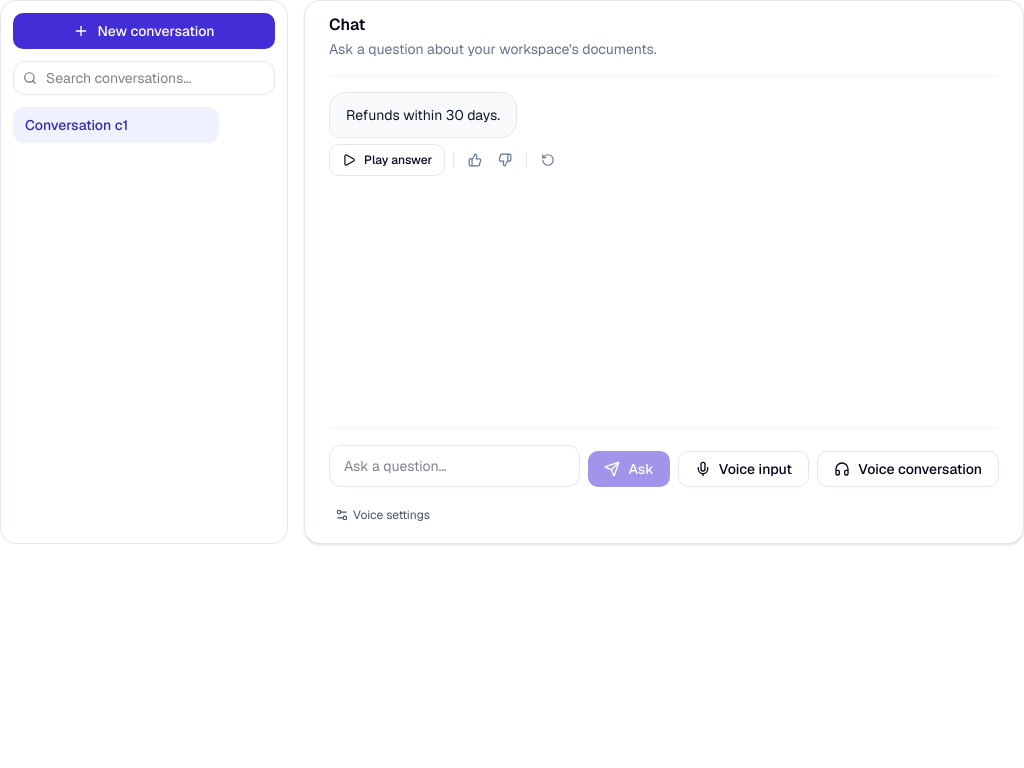
ChatPage › plays and stops an assistant message's synthesized audio
Click the button "Play answer" at {"x": 387, "y": 160}, box [329,144,445,176]
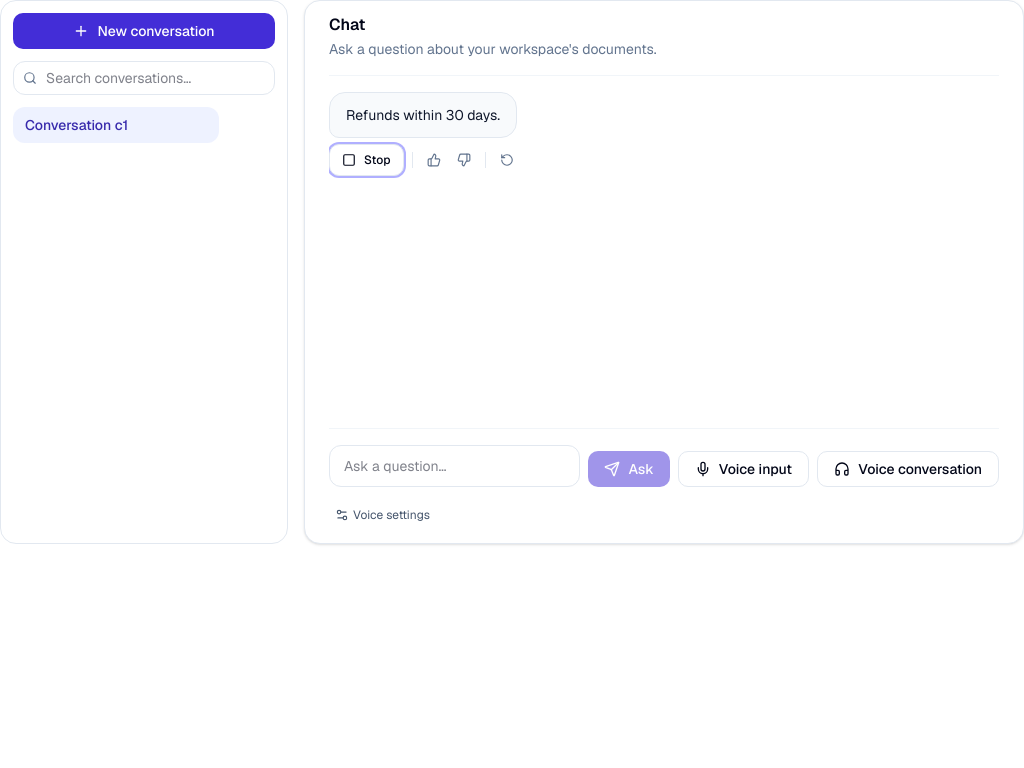
Click the button "Stop" at {"x": 366, "y": 160}, box [329,144,404,176]
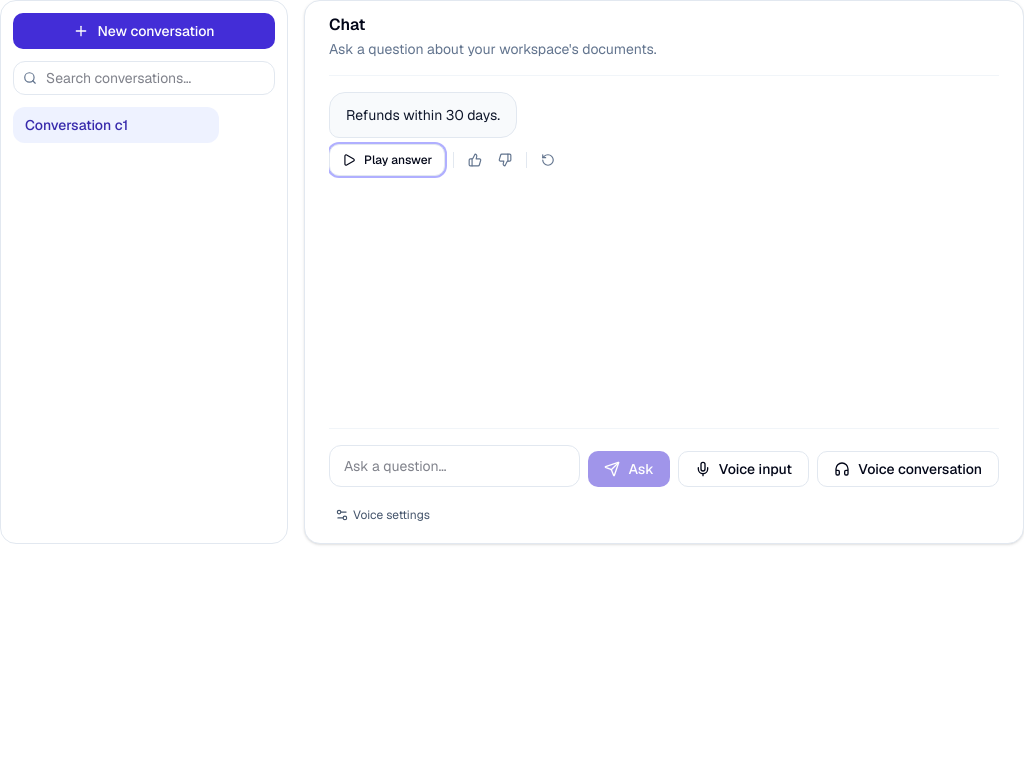
Expected: the button "Play answer" is shown, [329,144,445,176]
